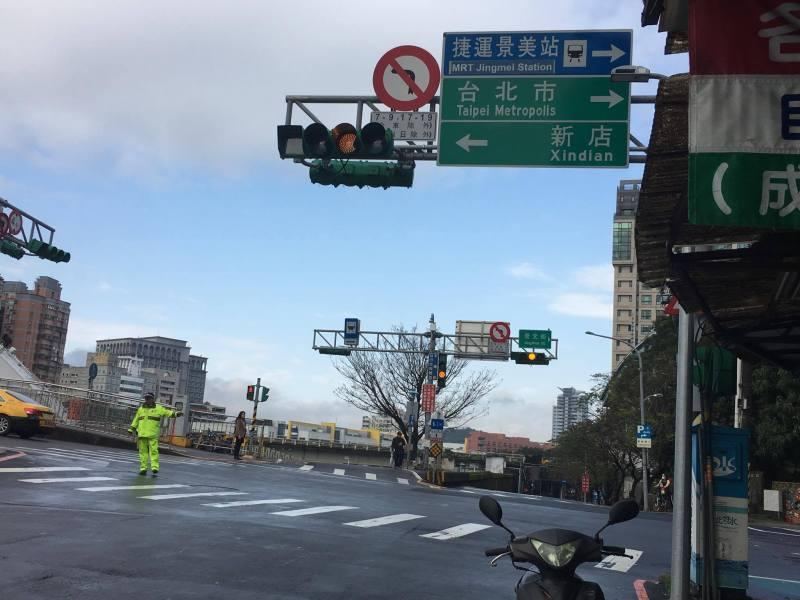no_left_turn: (371, 44, 438, 108), (488, 321, 509, 341)
